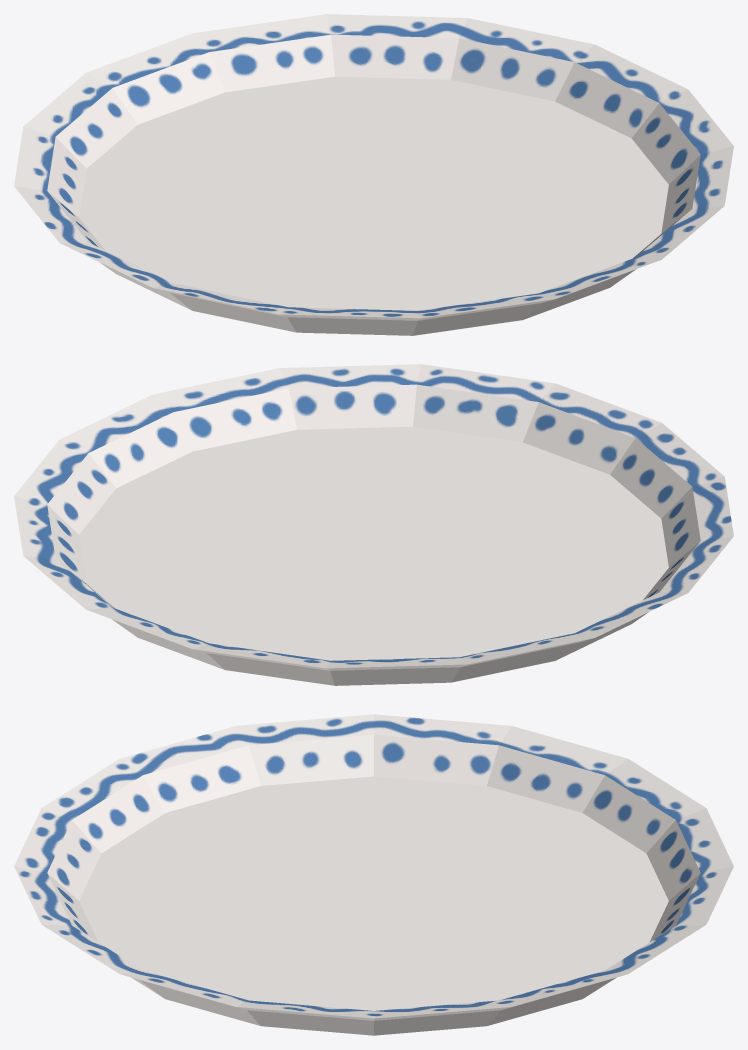
Rendered from Plate.fbx.
3 views of the same model, one above another, from view 1: azimuth 30°, elevation 25°; view 2: azimuth 150°, elevation 25°; view 3: azimuth 270°, elevation 25° (orthographic).
Parts seen in each view (by area): view 1: Plate; view 2: Plate; view 3: Plate.
Part boxes in pixels (x1,y1,x2,y2): Plate: (14, 14, 733, 335); Plate: (14, 364, 733, 685); Plate: (14, 714, 733, 1035).
Size of the model in its own units: 221 by 221 by 15.1.
1 material, 1 textured.
